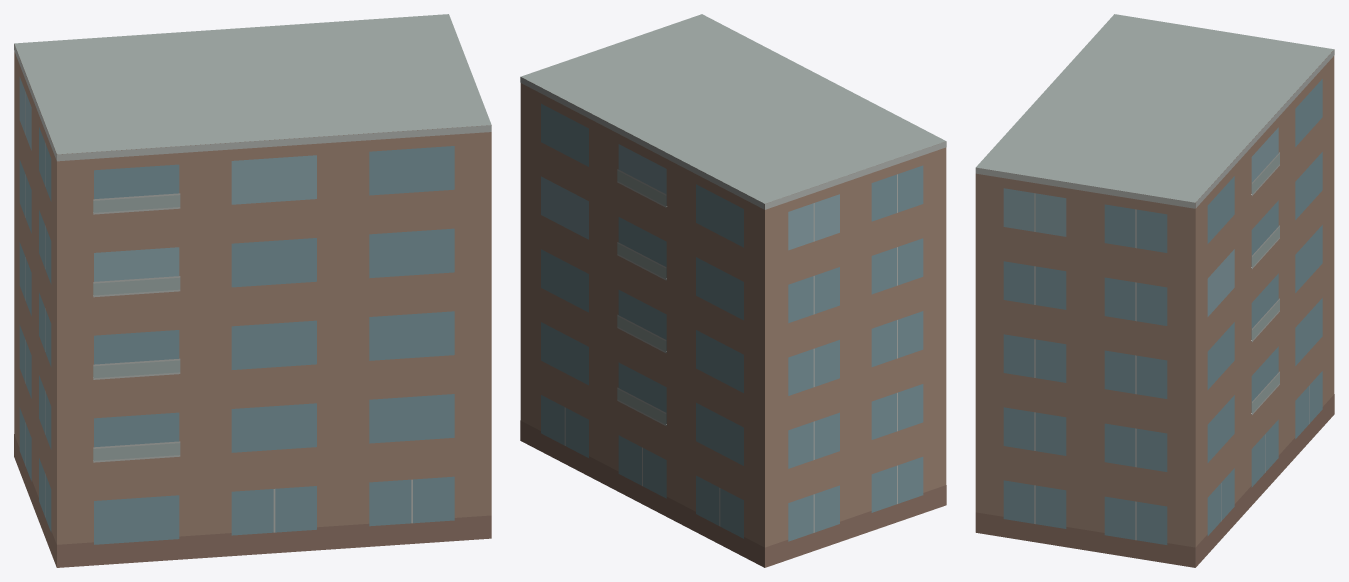
File: survey-upis-32869769.glb
3 renders of one model, left to right at view 1: azimuth 30°, elevation 25°; view 2: azimuth 150°, elevation 25°; view 3: azimuth 270°, elevation 25°, orthographic. The views are drawn at different scales.
Parts seen in each view (by area): view 1: survey-upis-32869769.tmp; view 2: survey-upis-32869769.tmp; view 3: survey-upis-32869769.tmp.
Boxes of the visible parts, x1,y1,x2,y2 form: survey-upis-32869769.tmp: (14,14,491,567); survey-upis-32869769.tmp: (520,14,946,567); survey-upis-32869769.tmp: (975,14,1334,567).
Size of the model in its own units: 16.19 by 14.6 by 13.01.
